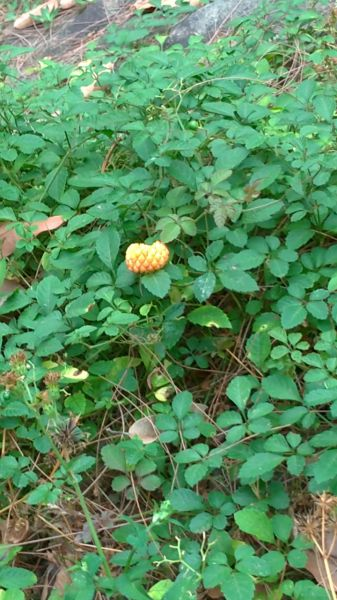eggs: (123, 234, 176, 281)
